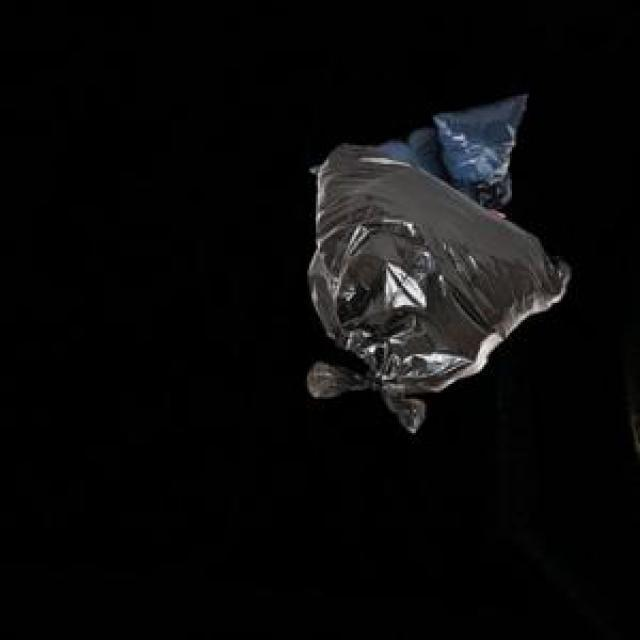miscellaneous trash: (303, 141, 565, 429), (365, 90, 522, 209)
